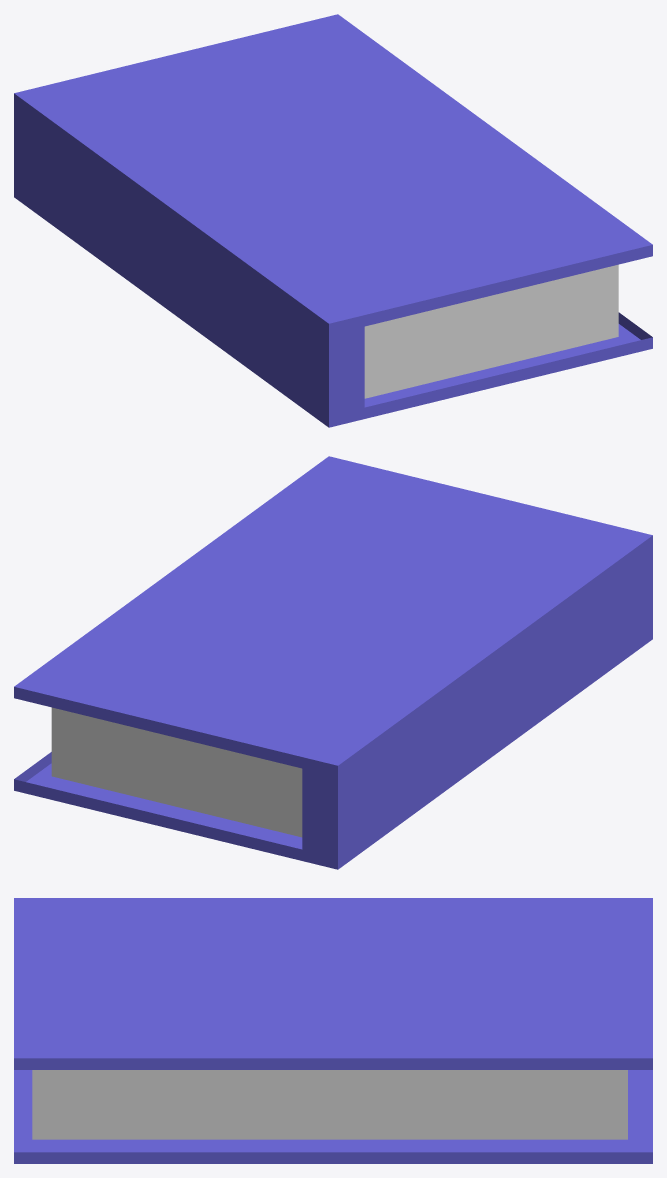
Rendered from libro.fbx.
3 views of the same model, one above another, from view 1: azimuth 30°, elevation 25°; view 2: azimuth 150°, elevation 25°; view 3: azimuth 270°, elevation 25° (orthographic).
Visible parts, largest first — view 1: Libro; view 2: Libro; view 3: Libro.
Boxes of the visible parts, left/top/right/bottom form: Libro: left=14, top=14, right=652, bottom=427; Libro: left=14, top=456, right=652, bottom=869; Libro: left=14, top=898, right=652, bottom=1163.
Size of the model in its own units: 60.82 by 18.65 by 102.
